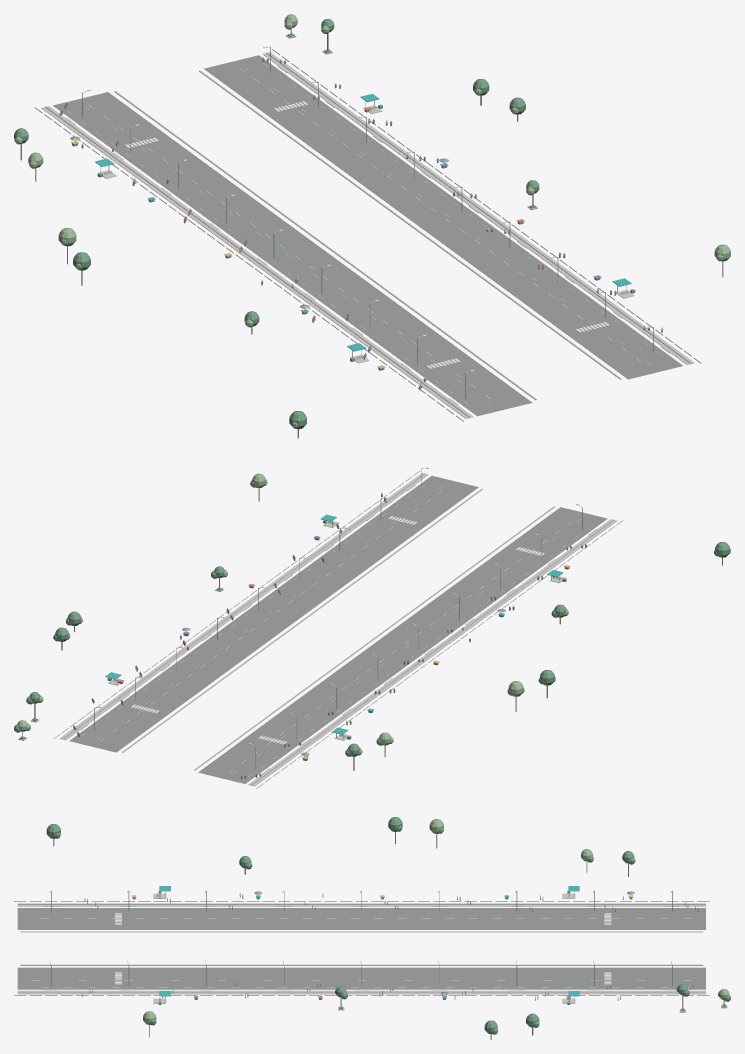
3 views of the same model, one above another, from view 1: azimuth 30°, elevation 25°; view 2: azimuth 150°, elevation 25°; view 3: azimuth 270°, elevation 25° (orthographic). The views are drawn at different scales.
Visible parts, largest first — view 1: nearby/11; view 2: nearby/11; view 3: nearby/11.
Part boxes in pixels (x1=…): nearby/11: x1=14, y1=14, x2=730, y2=438; nearby/11: x1=14, y1=467, x2=730, y2=788; nearby/11: x1=14, y1=817, x2=730, y2=1039.
Size of the model in its own units: 184 by 12.28 by 277.
